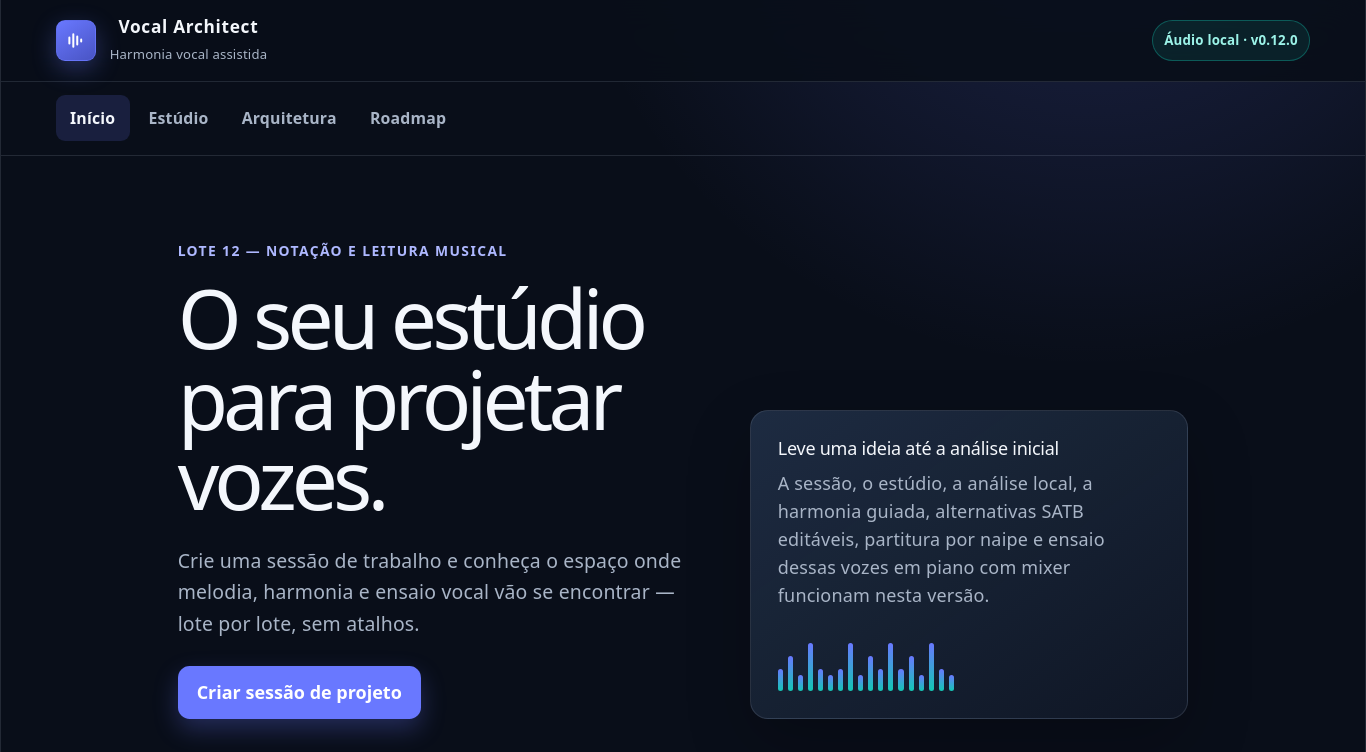
Vocal Architect foundation › does not request the microphone until the user starts a recording
The image size is (1366, 752).
Click the button "Criar sessão de projeto".
click(299, 692)  # box [178,666,421,719]
(page scrolled)
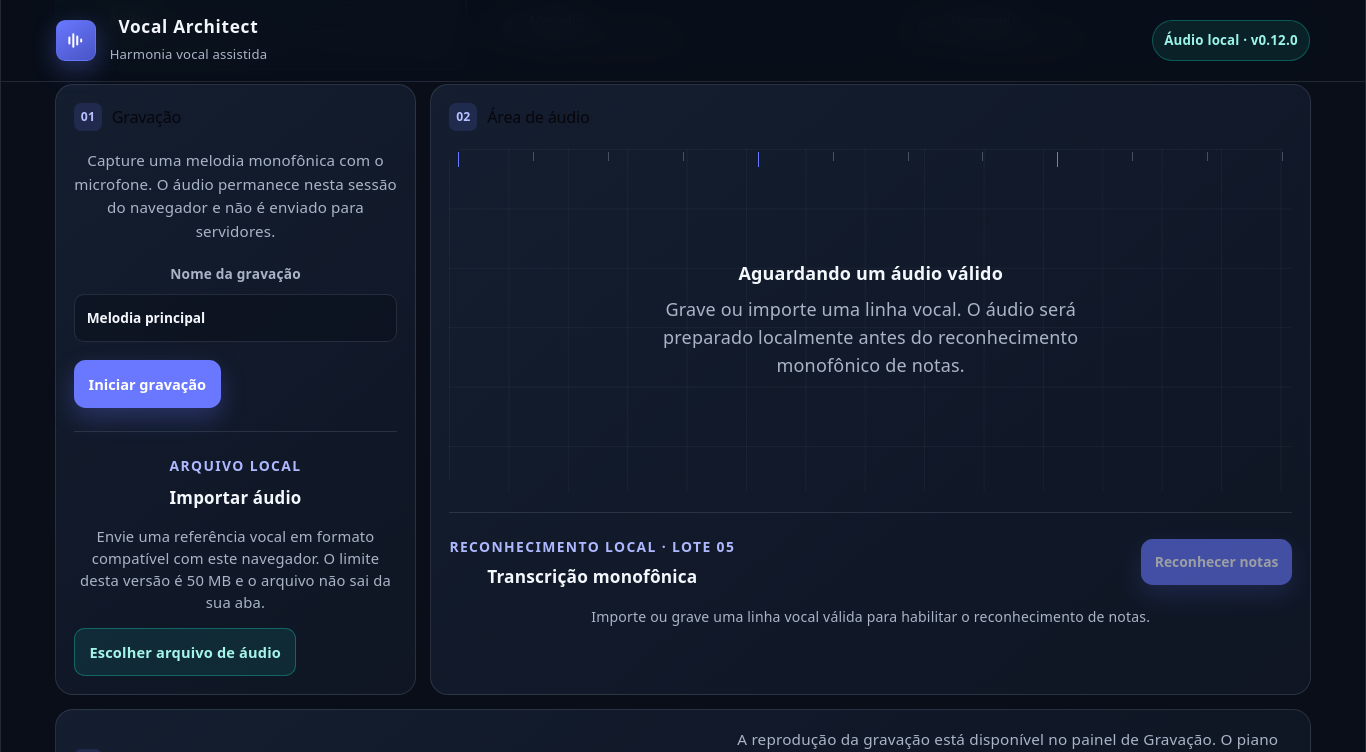
Click the button "Iniciar gravação".
click(147, 384)  # box [74,360,221,408]
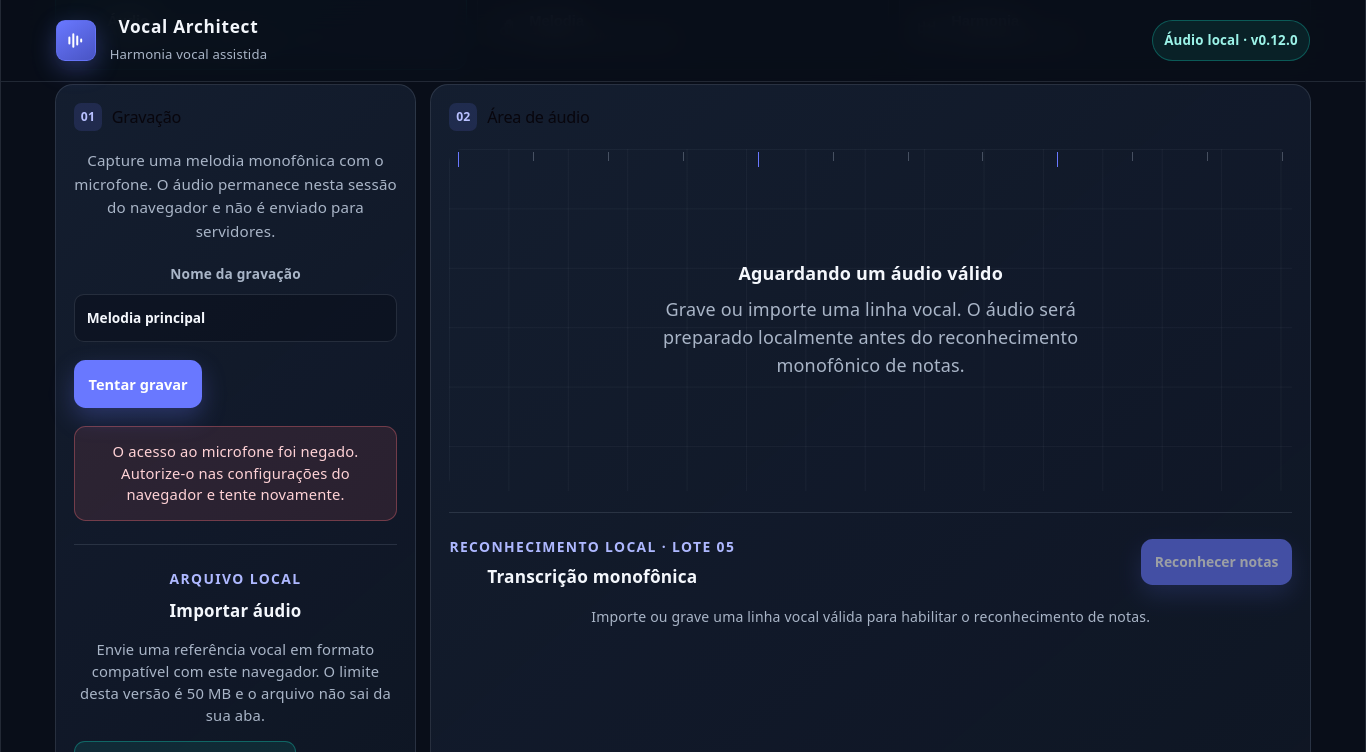
Now the message shows "acesso ao microfone foi negado", box [112,441,358,504]
